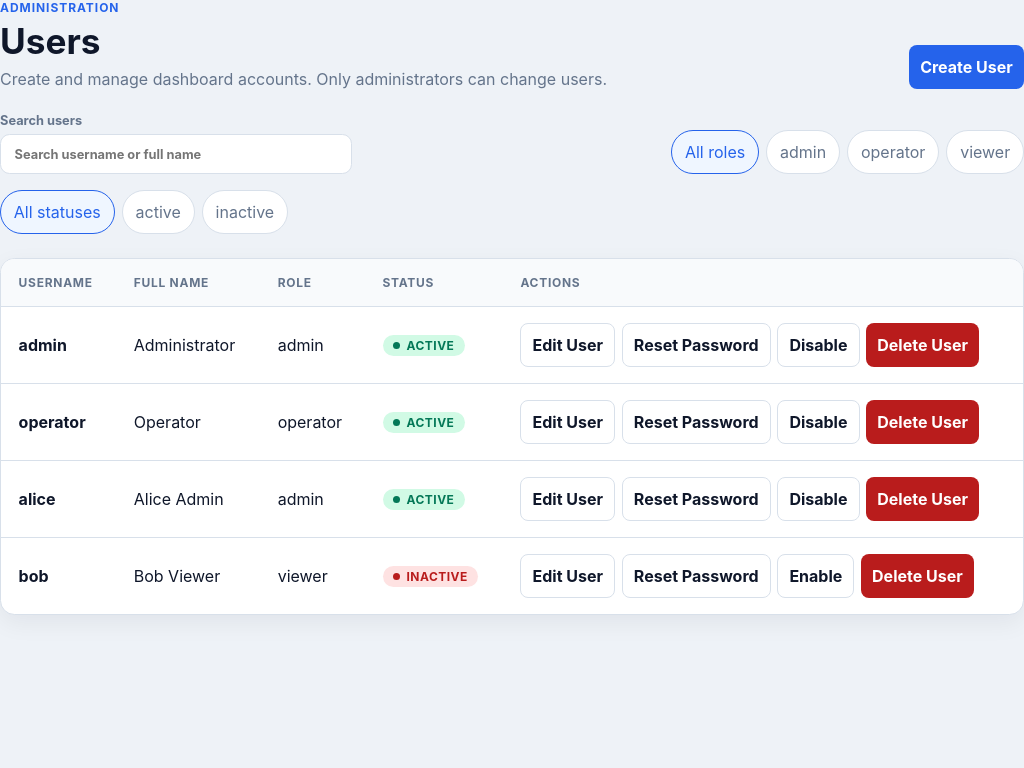
Test: Users page › opens the create dialog
Expected: the table named "Dashboard users" is shown, [1,259,1023,614]
Click the button "Create User" at (966, 67), box [909,45,1023,89]
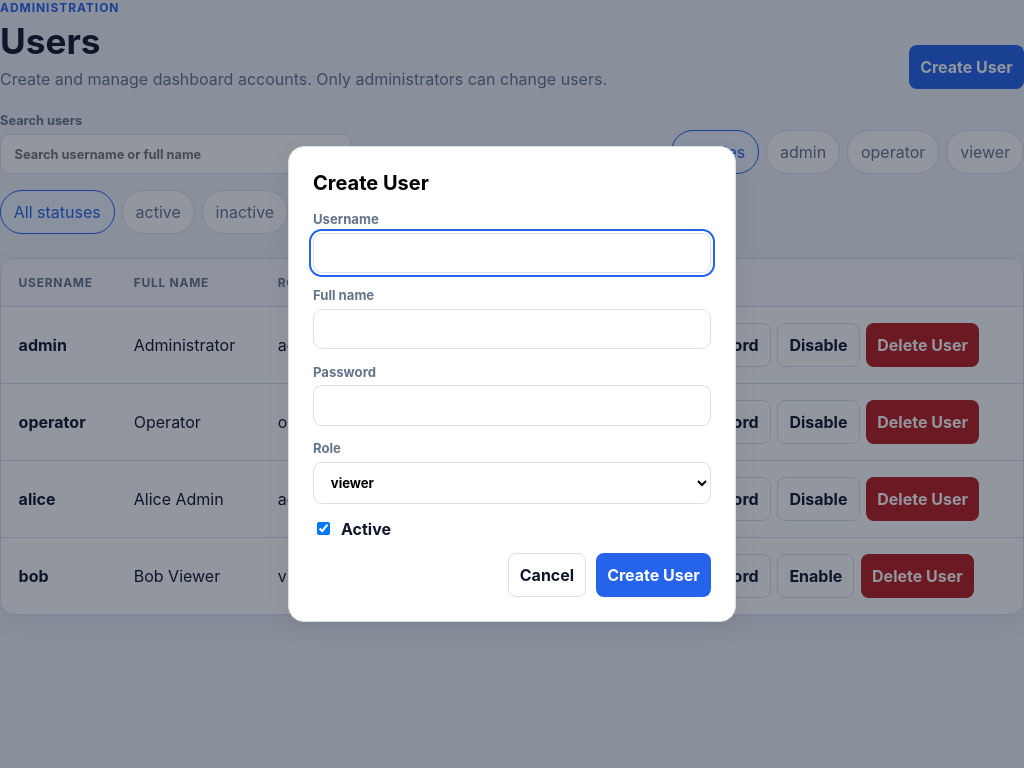
Expected: the heading "Create User" is shown, [313,171,429,195]
Expected: the field labelled "Username" is shown, [313,233,711,273]
Expected: the field labelled "Full name" is shown, [313,309,711,349]
